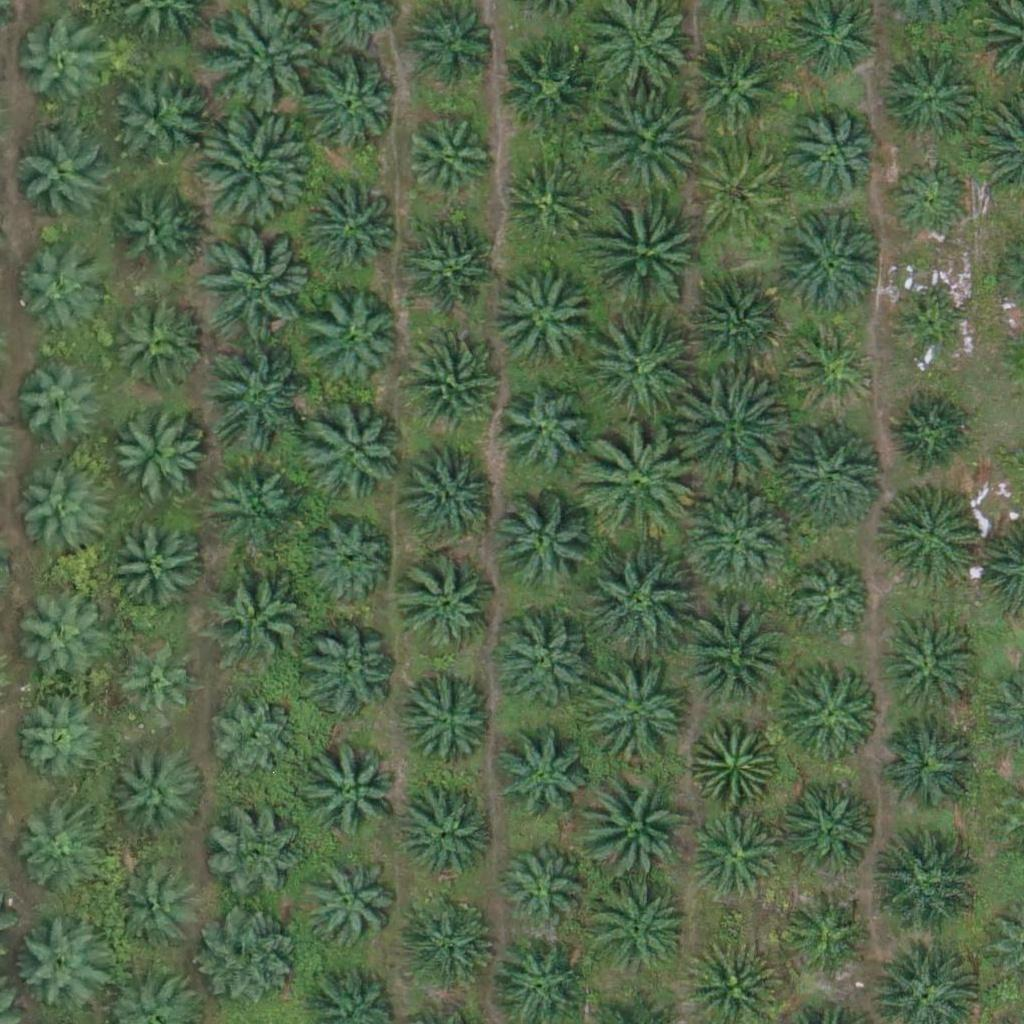Kelapa_Sawit: (579, 313, 692, 427), (588, 85, 701, 199), (584, 660, 697, 773), (583, 544, 696, 657), (196, 113, 309, 226), (684, 481, 796, 595), (590, 188, 702, 302), (197, 340, 309, 453), (583, 874, 695, 987), (578, 764, 690, 877), (581, 427, 693, 540), (671, 375, 783, 488), (676, 596, 788, 709), (774, 416, 886, 529), (865, 827, 977, 940), (773, 206, 885, 319), (203, 229, 315, 342), (97, 65, 209, 178), (11, 585, 111, 686), (106, 519, 206, 620), (108, 400, 208, 501), (104, 291, 204, 392), (203, 452, 303, 553), (206, 563, 306, 664), (205, 801, 305, 902), (203, 905, 303, 1006), (300, 286, 400, 387), (306, 740, 406, 841), (299, 855, 399, 956), (396, 783, 496, 884), (398, 554, 498, 655), (399, 330, 499, 431), (496, 381, 596, 482), (494, 491, 594, 592), (489, 727, 589, 828), (781, 782, 881, 883), (780, 658, 880, 759), (882, 622, 982, 723), (880, 713, 980, 814), (880, 46, 980, 147), (782, 105, 882, 206), (685, 33, 785, 134), (401, 218, 501, 319), (300, 51, 400, 152), (298, 177, 398, 278), (10, 125, 110, 226), (16, 14, 116, 115), (12, 911, 112, 1011), (305, 405, 405, 505), (296, 622, 396, 722), (404, 894, 504, 994), (399, 670, 499, 770), (406, 441, 506, 541), (490, 272, 590, 372), (493, 609, 593, 709), (686, 276, 786, 376), (879, 484, 979, 584), (691, 142, 791, 242), (502, 38, 602, 138), (16, 361, 104, 449), (16, 468, 104, 556), (13, 701, 101, 789), (115, 745, 203, 833), (210, 695, 298, 783), (693, 808, 781, 896), (787, 883, 875, 971), (885, 159, 973, 247), (501, 157, 589, 245), (403, 119, 491, 207), (111, 186, 199, 274), (109, 638, 196, 727), (788, 324, 875, 412), (12, 808, 99, 896), (110, 866, 197, 954), (305, 516, 392, 604), (499, 841, 586, 929), (691, 716, 778, 804), (792, 558, 879, 646), (887, 388, 974, 476), (9, 250, 96, 338), (897, 294, 972, 369)
